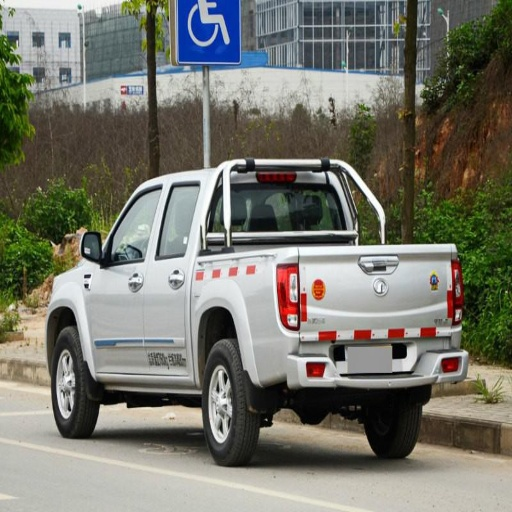back_bumper: (291, 344, 462, 386)
back_glass: (232, 184, 345, 230)
back_left_door: (144, 183, 200, 372)
trunk: (185, 239, 454, 385)
